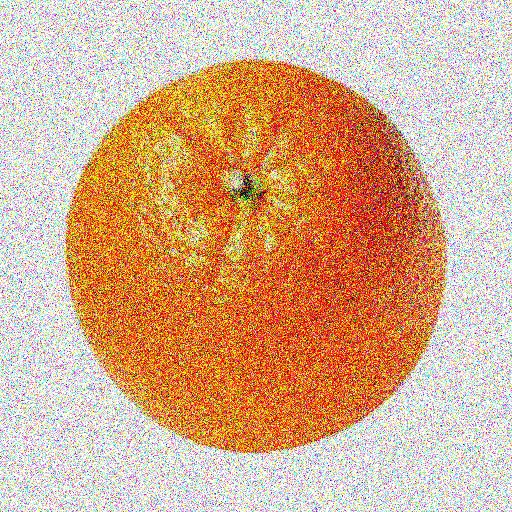fruit: (401, 138, 481, 470)
